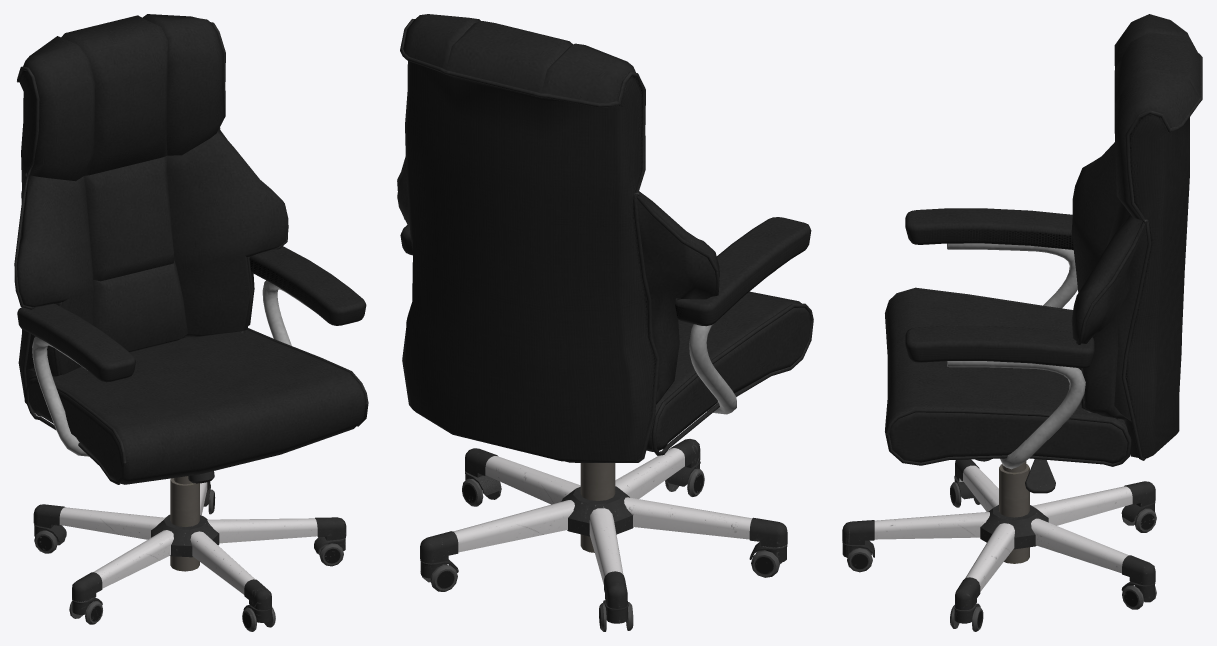
The picture shows the model from 3 angles, left to right: view 1: azimuth 30°, elevation 25°; view 2: azimuth 150°, elevation 25°; view 3: azimuth 270°, elevation 25°; orthographic projection. The views are drawn at different scales.
Parts seen in each view (by area): view 1: chair_woo; view 2: chair_woo; view 3: chair_woo.
Boxes of the visible parts, bbox=[...] form: chair_woo: bbox=[14, 14, 368, 631]; chair_woo: bbox=[397, 14, 813, 631]; chair_woo: bbox=[842, 14, 1202, 631].
Size of the model in its own units: 67.39 by 117 by 73.96.
Materials: 2 (2 with a texture image).
